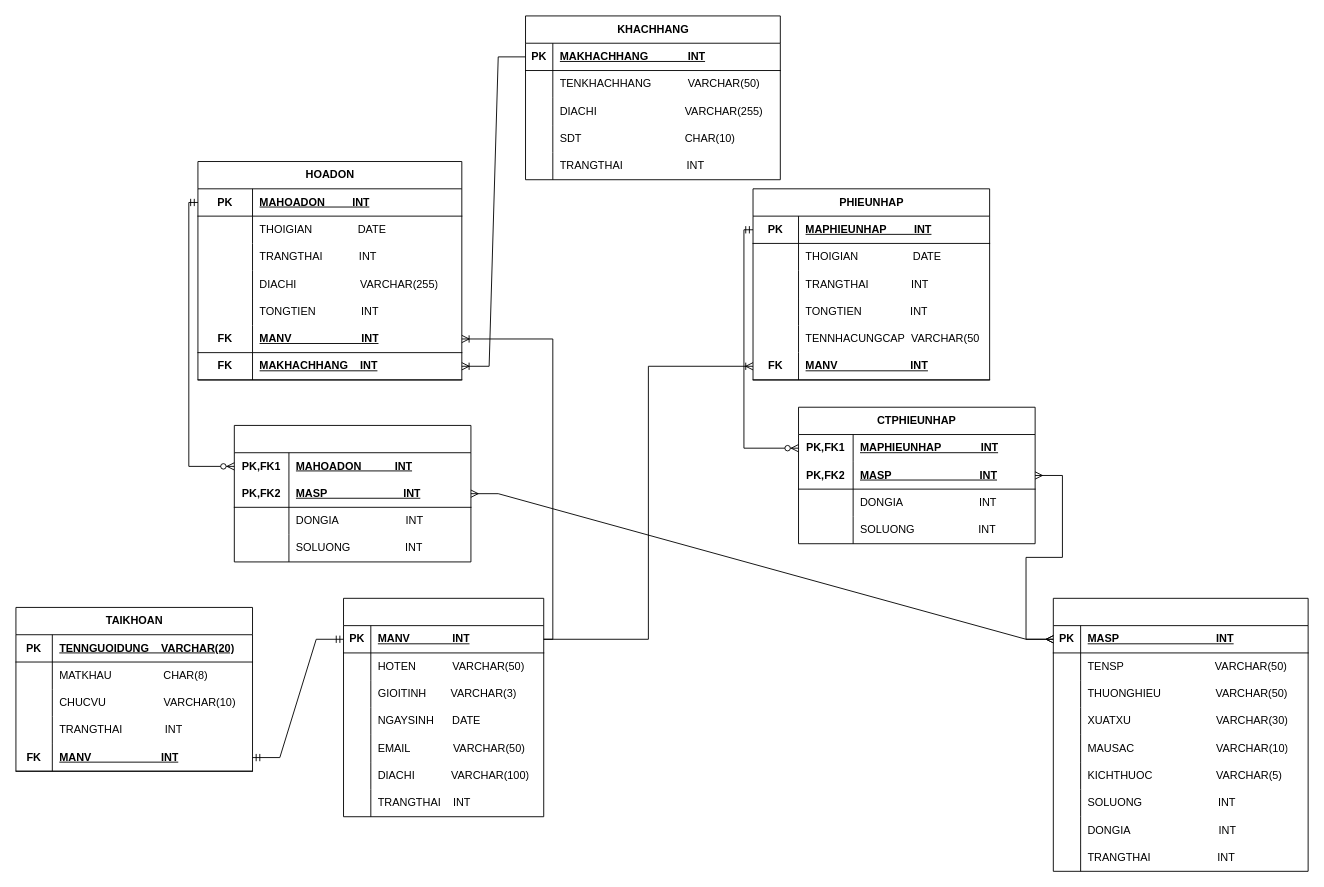
This 1324x887 diagram has some shape labels left out. The shapes that lost their labels are listed below. From the top down, each one's box as (x1, y1, x2, y2) in pixels, then its label:
(233, 425, 471, 562): CTHOADON
(343, 597, 544, 817): NHANVIEN
(1052, 597, 1308, 871): SANPHAM
